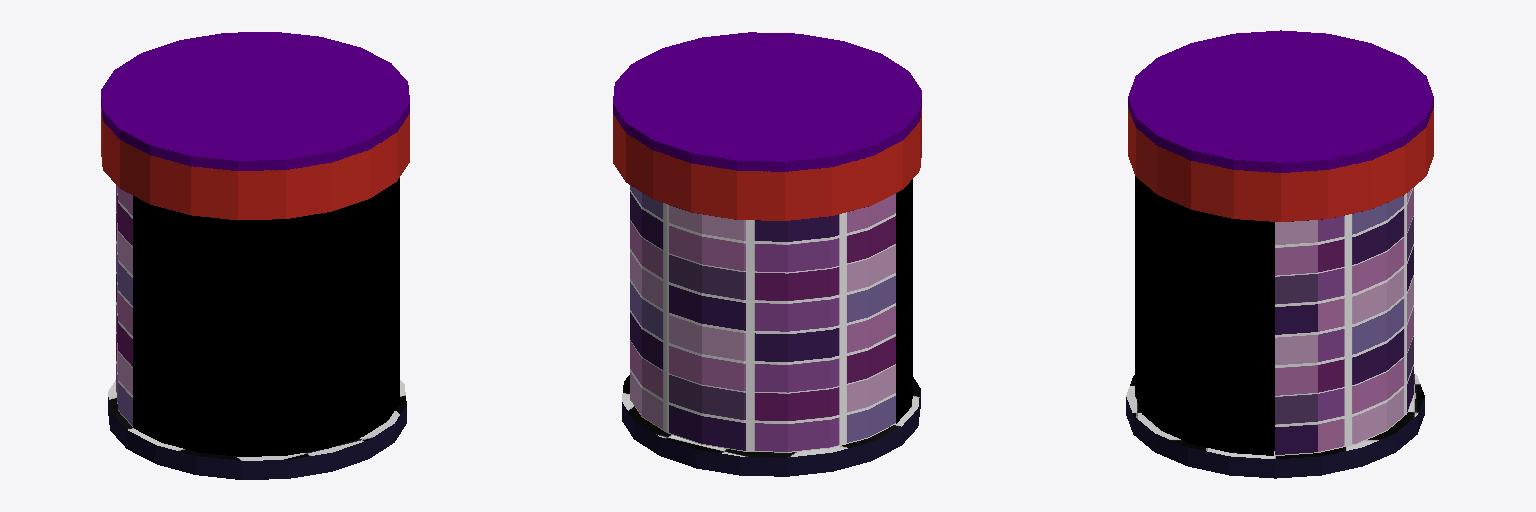
3 views of the same model, side by side, from view 1: azimuth 30°, elevation 25°; view 2: azimuth 150°, elevation 25°; view 3: azimuth 270°, elevation 25° (orthographic).
Visible parts, largest first — view 1: polySurface240; view 2: polySurface240; view 3: polySurface240.
Part boxes in pixels (x1,y1,x2,y2): polySurface240: (101,32,409,479); polySurface240: (613,32,921,476); polySurface240: (1126,30,1433,478).
Bounding box in the file's own units: 0.3566 × 0.4 × 0.3503.
Materials: 19 (5 with a texture image).